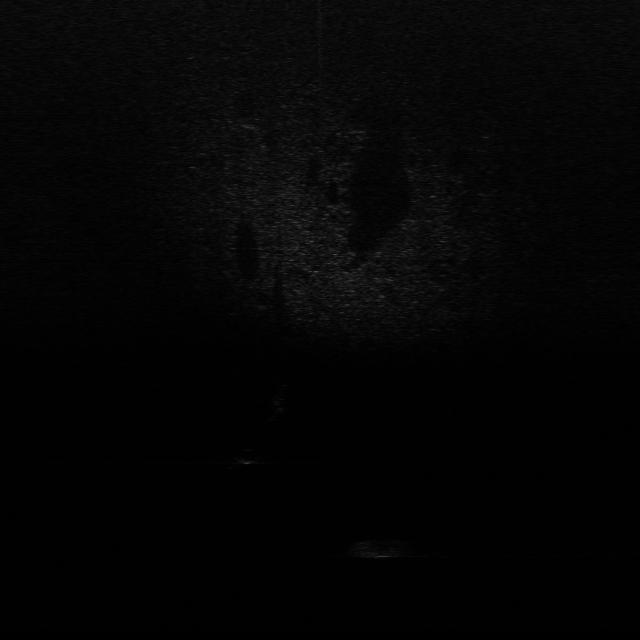ball: (232, 444, 264, 467)
circle cage: (348, 537, 429, 561)
human body: (269, 382, 292, 423)
